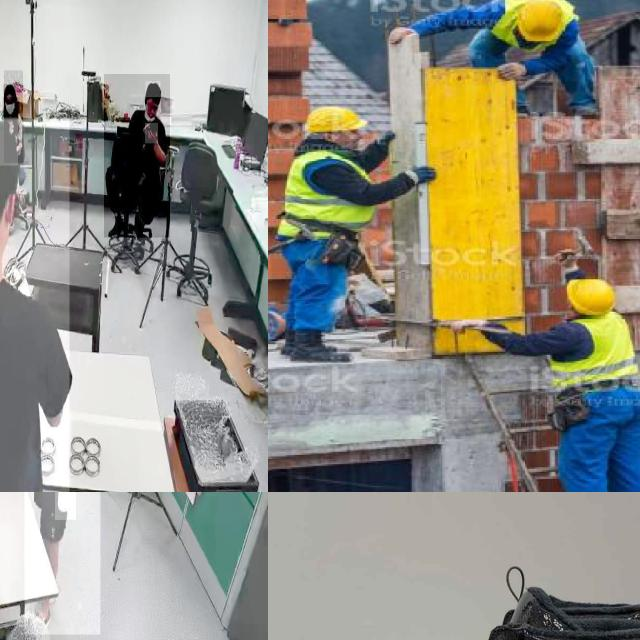Sandals: (268, 539, 640, 640)
face_mask: (3, 97, 20, 113)
face_nomask: (146, 100, 157, 121)
hand_glove: (55, 492, 76, 520)
hand_noglove: (145, 123, 159, 144)
head_nohelmet: (0, 117, 18, 166), (145, 81, 161, 98), (3, 84, 15, 95)
person: (0, 119, 70, 492), (24, 492, 101, 635), (104, 74, 170, 238), (4, 70, 24, 163)
shoes: (106, 212, 126, 239)
